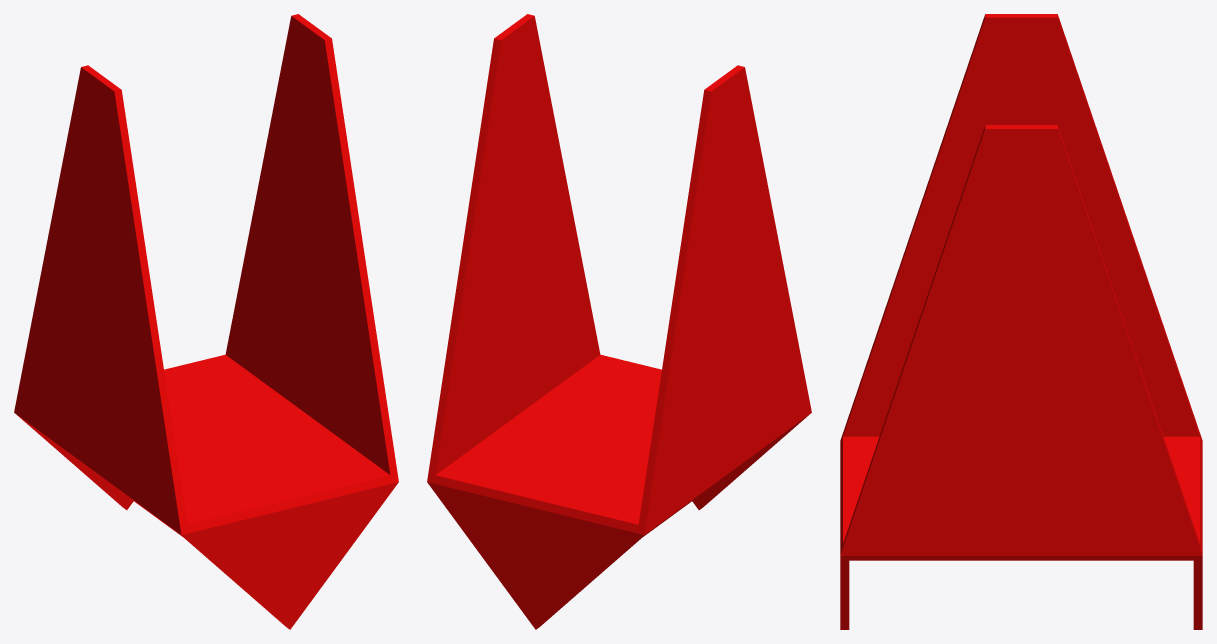
Rendered from CONNECT-LINK_link_mesh.dae.
3 views of the same model, side by side, from view 1: azimuth 30°, elevation 25°; view 2: azimuth 150°, elevation 25°; view 3: azimuth 270°, elevation 25° (orthographic). The views are drawn at different scales.
Parts seen in each view (by area): view 1: CONNECT-LINK_link (×2); view 2: CONNECT-LINK_link (×2); view 3: CONNECT-LINK_link (×2).
Part boxes in pixels (x1=…): CONNECT-LINK_link (×2): x1=14, y1=14, x2=398, y2=629; CONNECT-LINK_link (×2): x1=427, y1=14, x2=811, y2=629; CONNECT-LINK_link (×2): x1=840, y1=14, x2=1202, y2=629.
Bounding box in the file's own units: 0.15 × 0.34 × 0.2.
